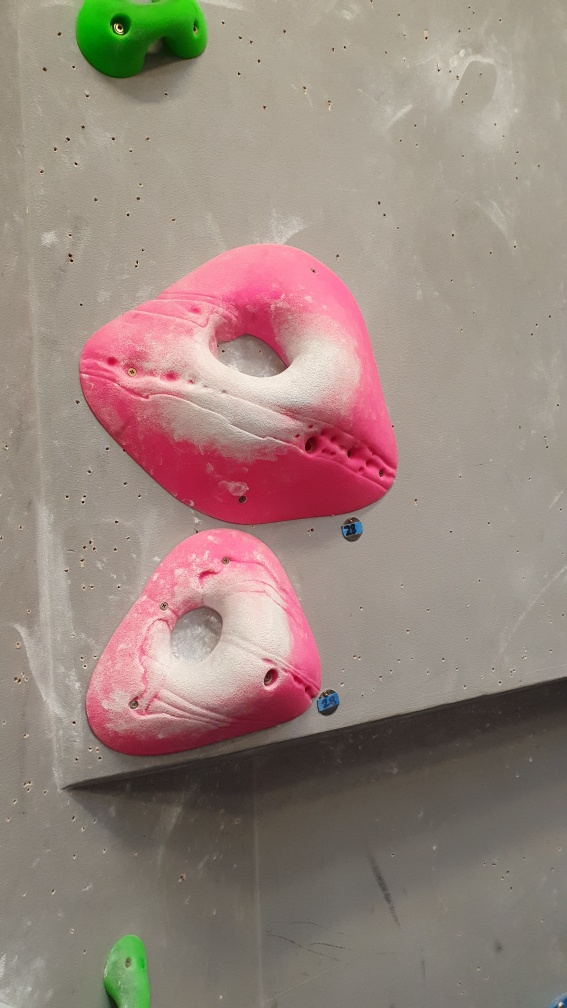Hand Start: (336, 509, 373, 548), (311, 687, 343, 726)
Pocket: (77, 237, 401, 529), (84, 518, 327, 764)
